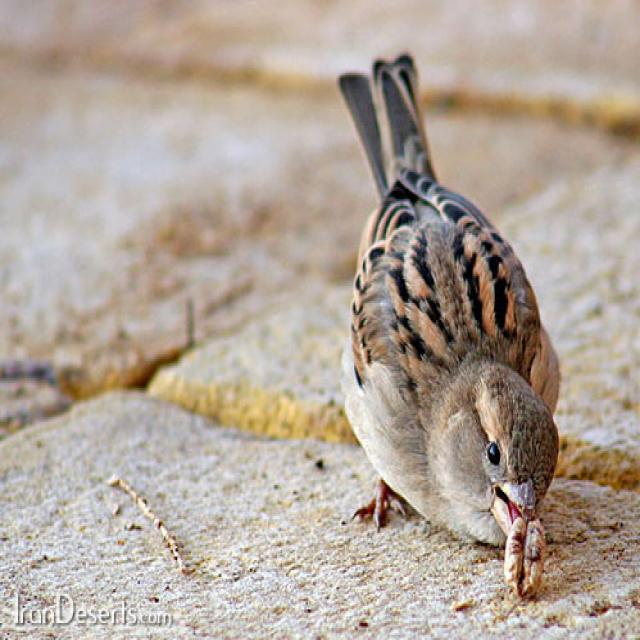bird: (334, 44, 580, 546)
